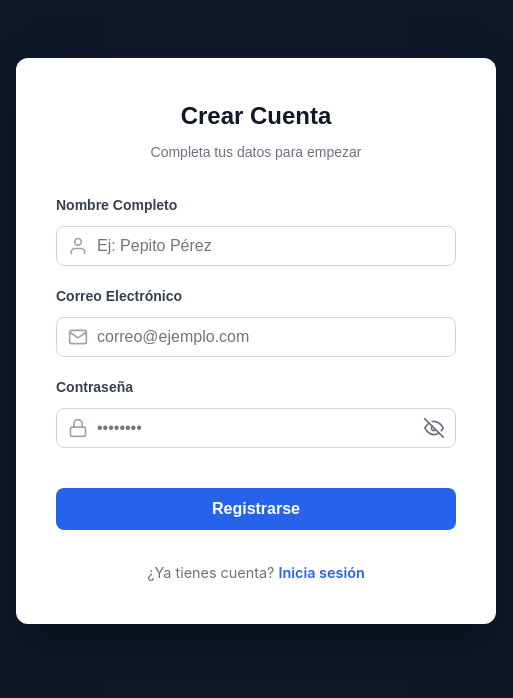
Test: RegisterPage › muestra errores cuando se envía el formulario vacío
Click the button "Registrarse" at (256, 509), box top-left (56, 488), bottom-right (456, 530)
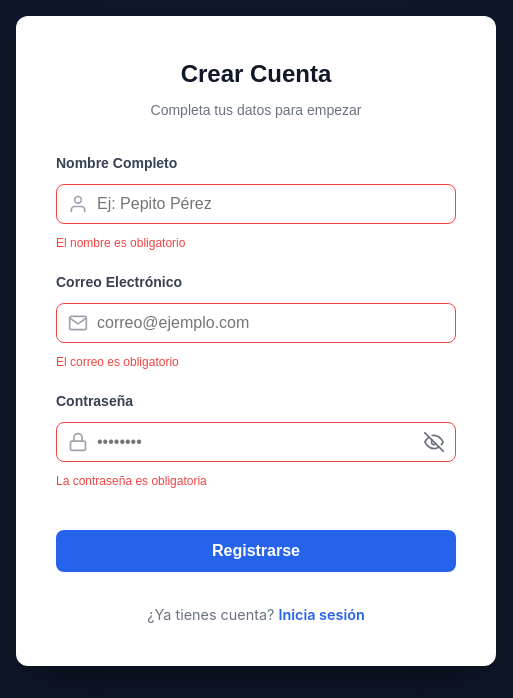
Result: the text "El nombre es obligatorio" is shown at top-left (56, 236), bottom-right (185, 250)
Result: the text "El correo es obligatorio" is shown at top-left (56, 355), bottom-right (179, 369)
Result: the text "La contraseña es obligatoria" is shown at top-left (56, 474), bottom-right (207, 488)
